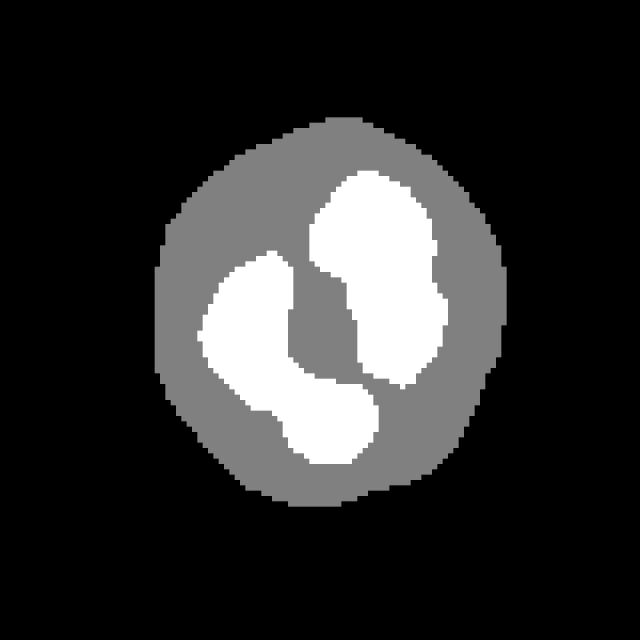WBC: (150, 101, 518, 518)
